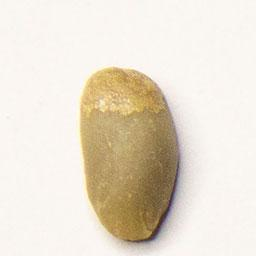longberry: (76, 63, 183, 244)
